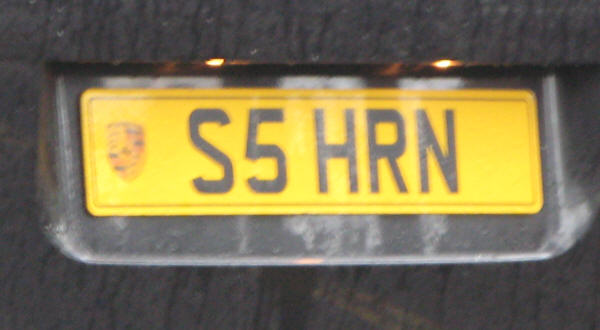license_plate: (81, 89, 543, 215)
